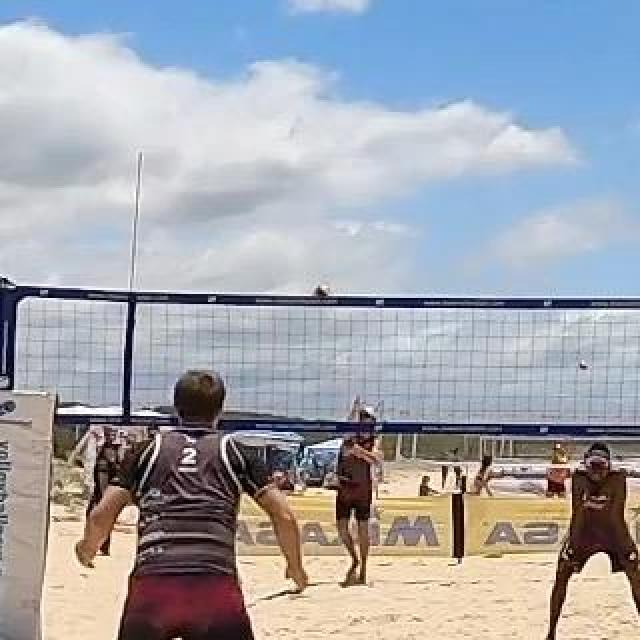volleyball: (312, 282, 332, 302)
